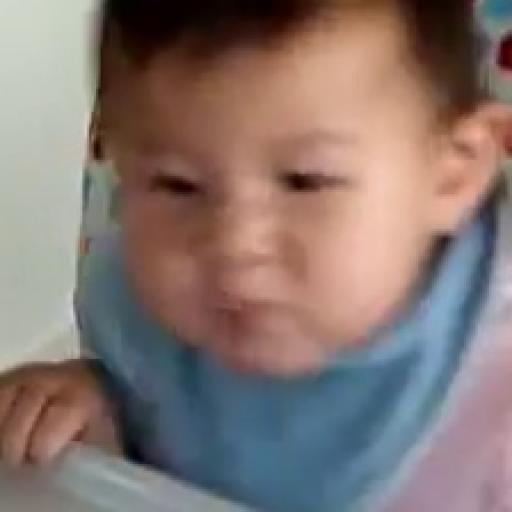Autism: (0, 0, 471, 425)
